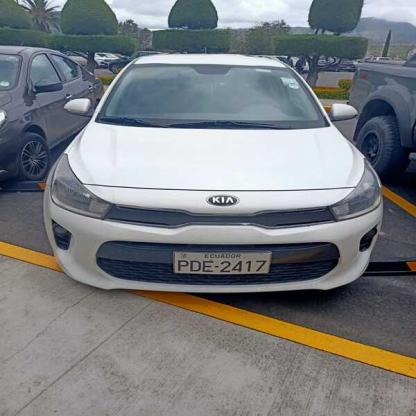Placa: (172, 242, 274, 280)
